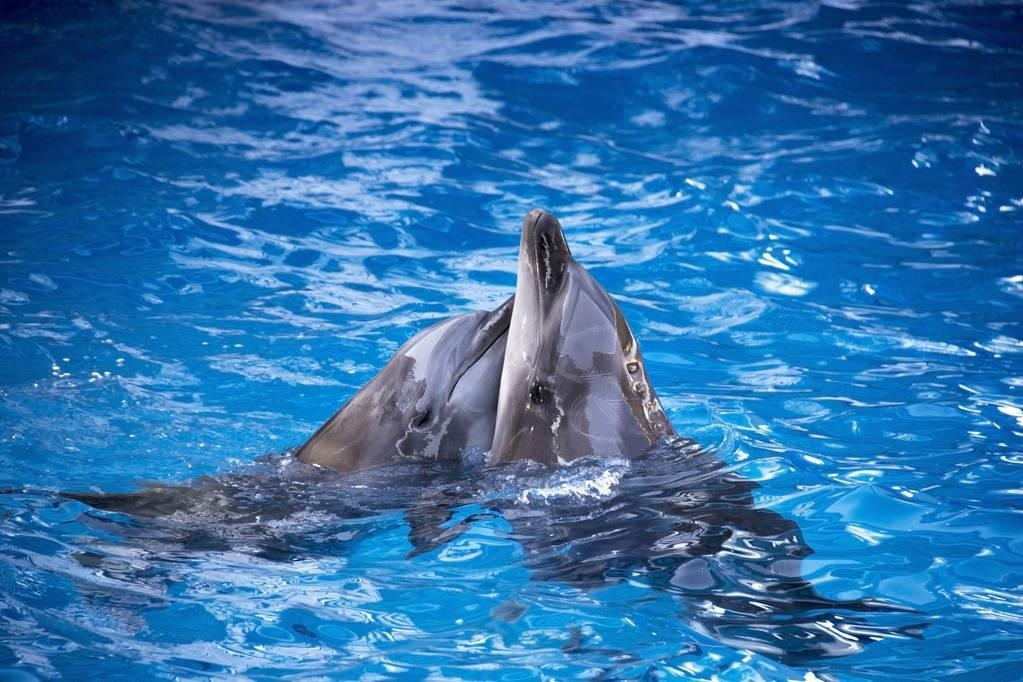fish: (491, 199, 916, 662), (57, 294, 513, 578)
